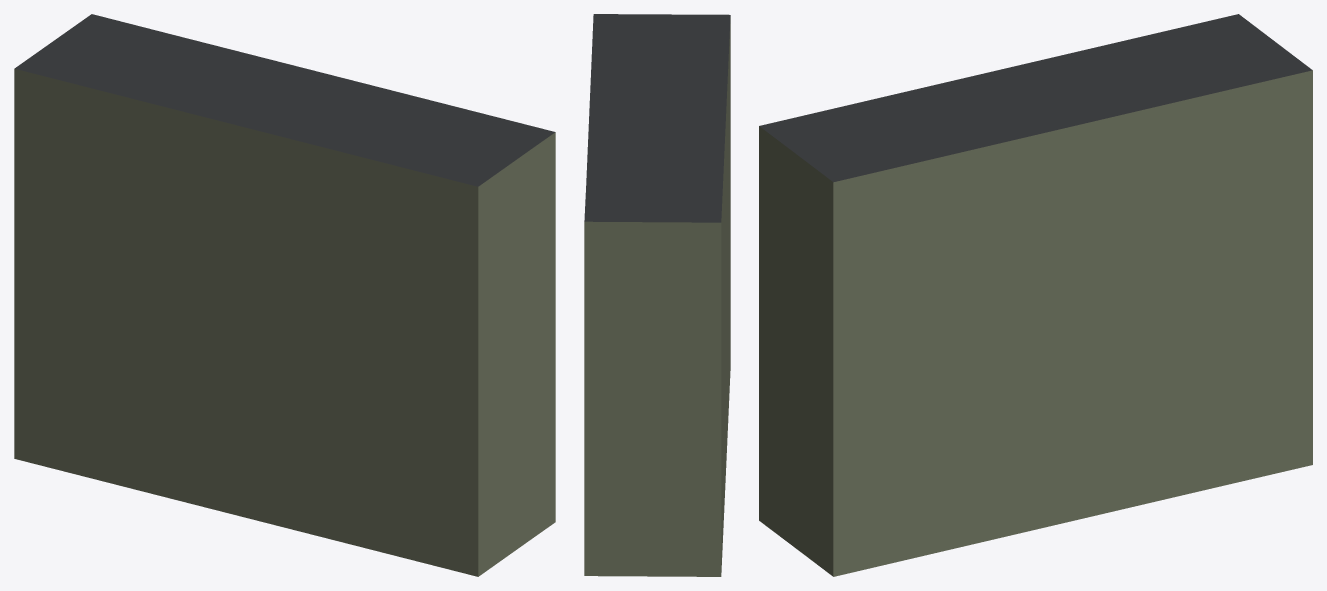
Rendered from nyc-1034350-0.glb.
The picture shows the model from 3 angles, left to right: view 1: azimuth 30°, elevation 25°; view 2: azimuth 150°, elevation 25°; view 3: azimuth 270°, elevation 25°; orthographic projection. The views are drawn at different scales.
Visible parts, largest first — view 1: nyc-1034350-0; view 2: nyc-1034350-0; view 3: nyc-1034350-0.
Part boxes in pixels (x1,y1,x2,y2): nyc-1034350-0: [14, 14, 555, 576]; nyc-1034350-0: [584, 14, 730, 576]; nyc-1034350-0: [759, 14, 1312, 576].
Bounding box in the file's own units: 15.42 × 16.86 × 21.44.
